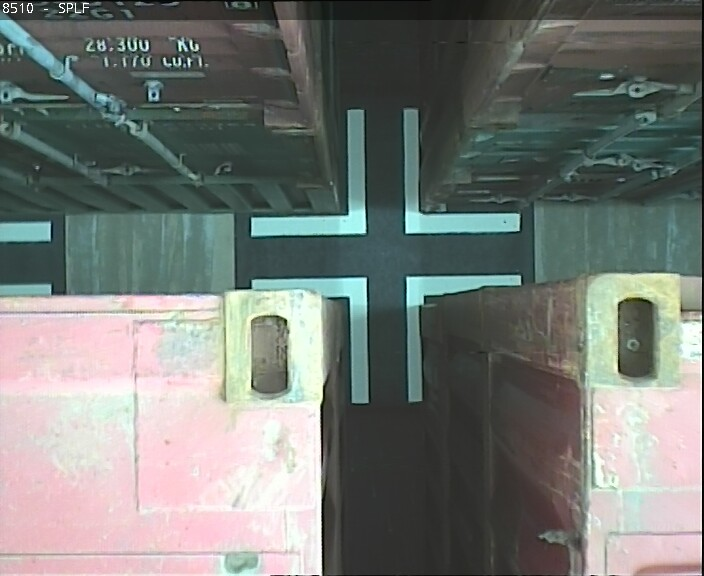groundmarker_1: (250, 108, 521, 241), (252, 275, 523, 407)
